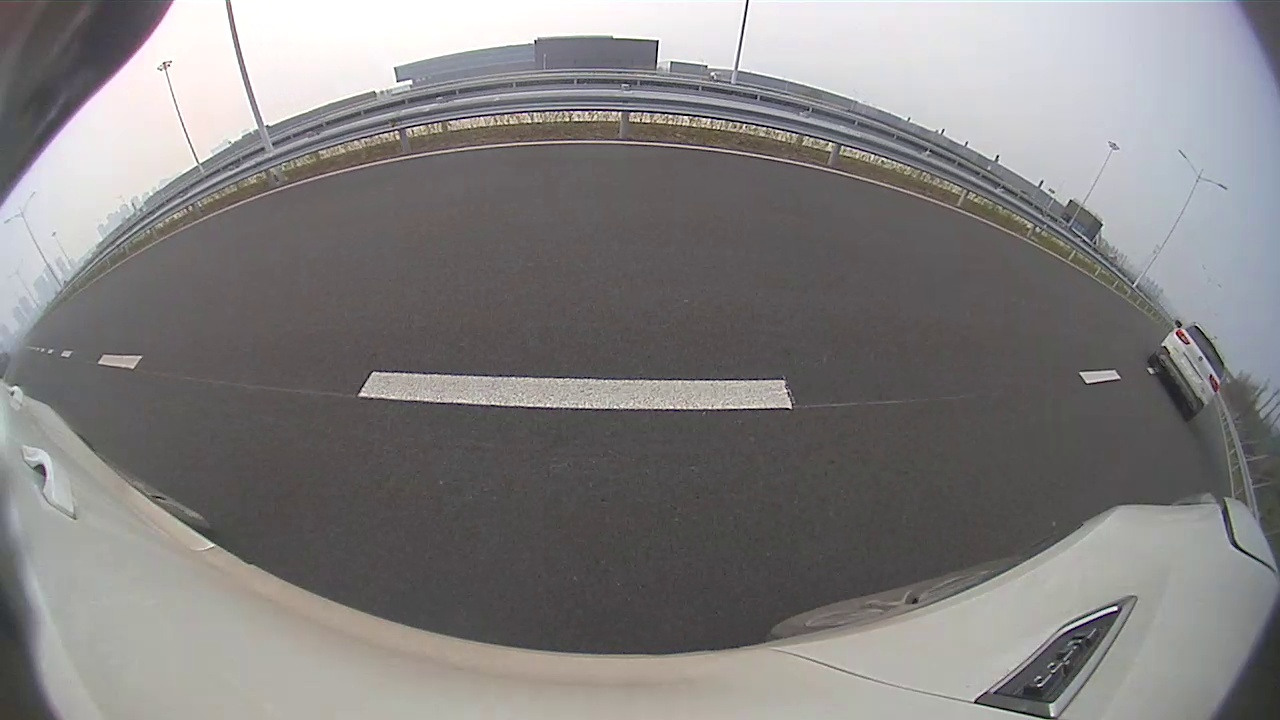car: (1148, 324, 1226, 418)
